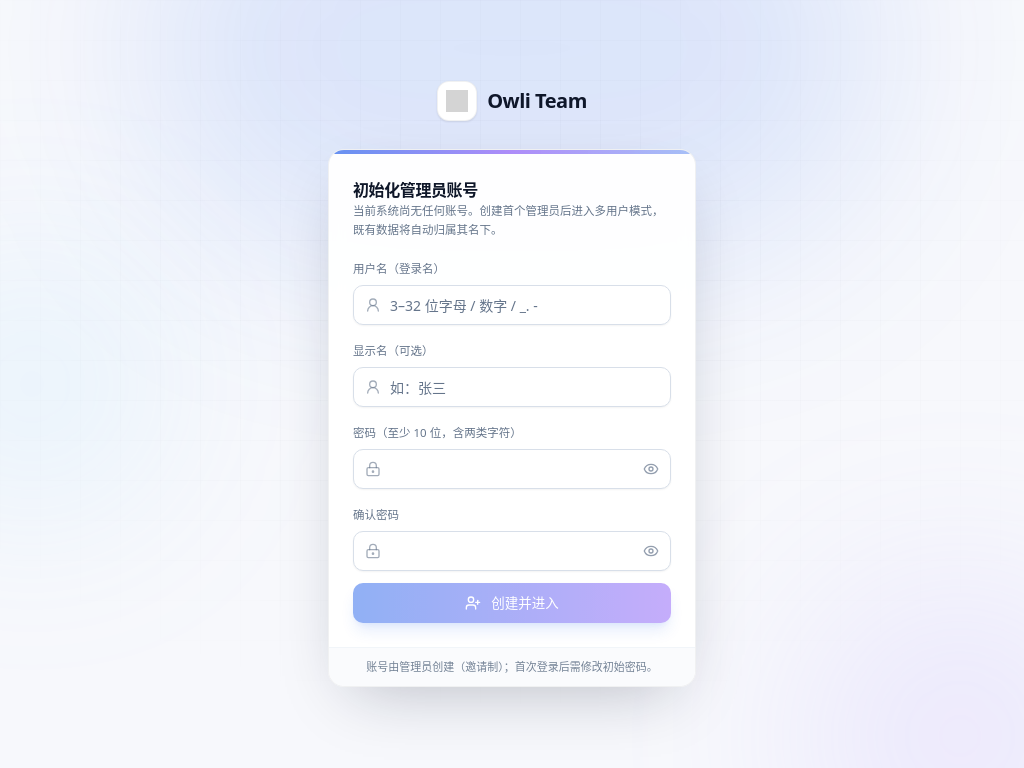
M57：认证页面 › 首启向导：两次密码不一致 → 本地校验拦截（不发请求）
Type "admin" into the field labelled "用户名（登录名）" at (512,305), box [353, 285, 671, 325]
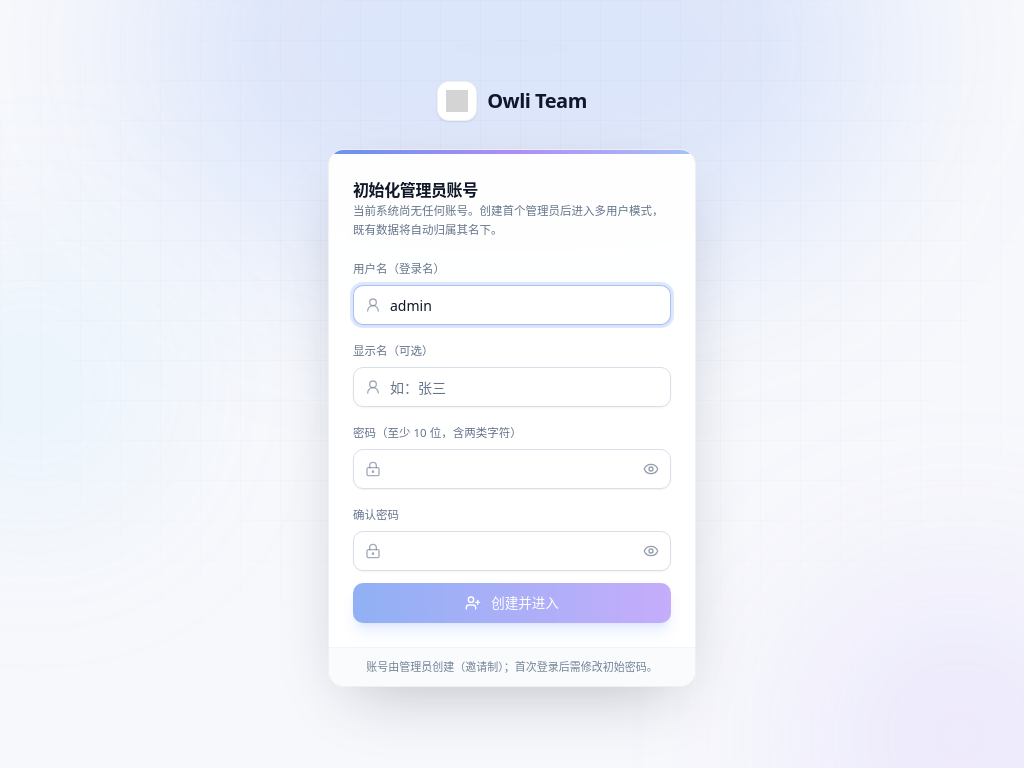
Type "Str0ngPass!x" into the password field labelled "密码（至少 10 位，含两类字符）" at (512,469), box [353, 449, 671, 489]
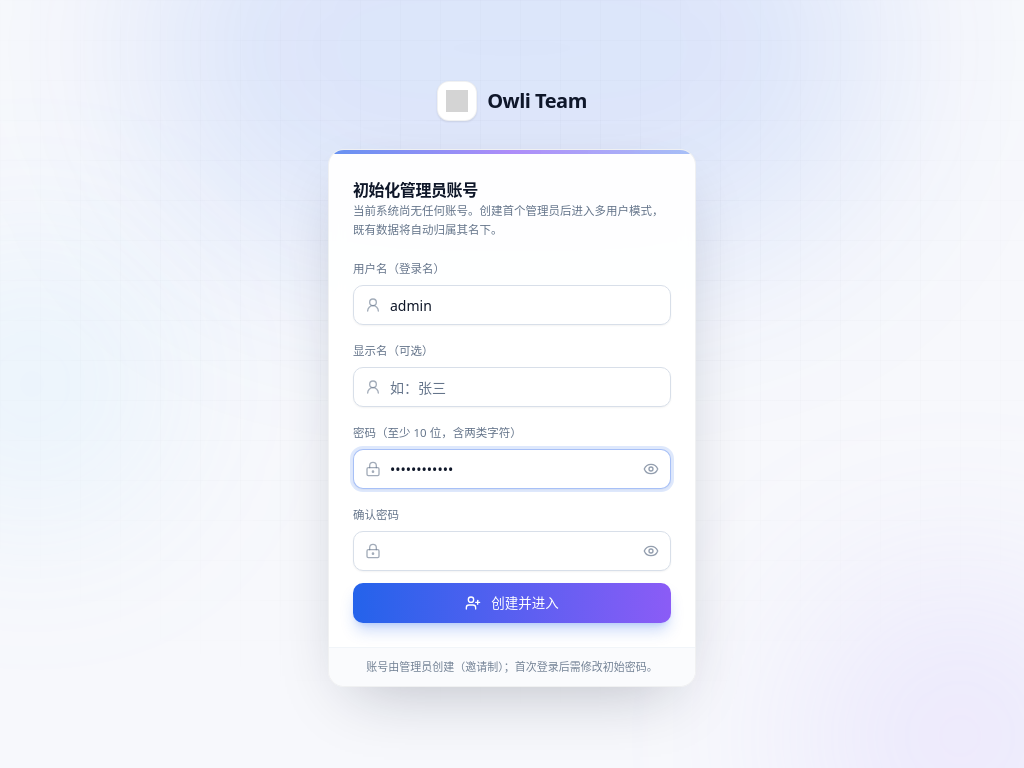
Type "Different!x" into the password field labelled "确认密码" at (512,551), box [353, 531, 671, 571]
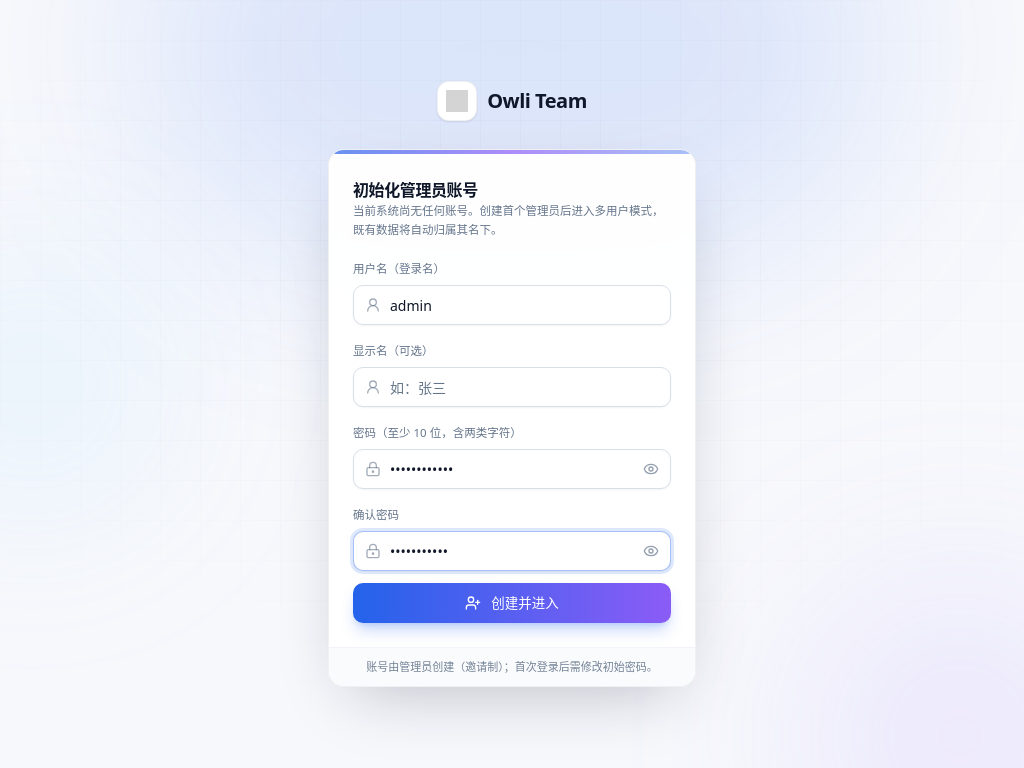
Click the button "创建并进入" at (512,603), box [353, 583, 671, 623]
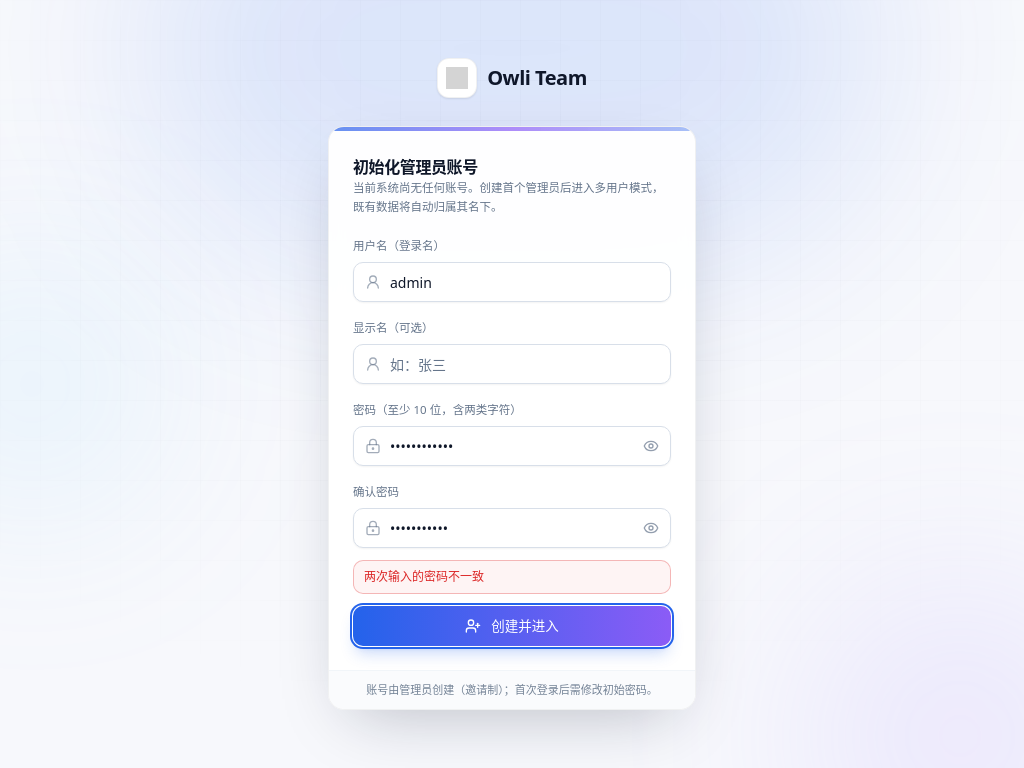
Result: the message reads "两次输入的密码不一致" at [364, 568, 484, 585]
